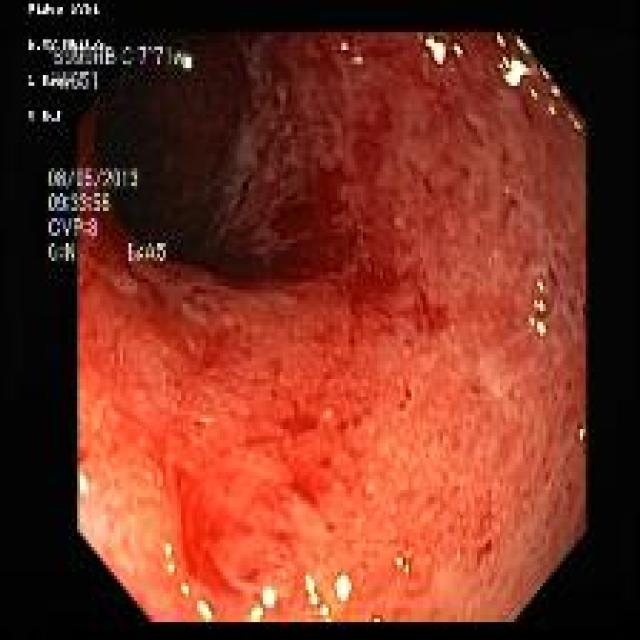ulcerative-colitis: (79, 36, 585, 621)
